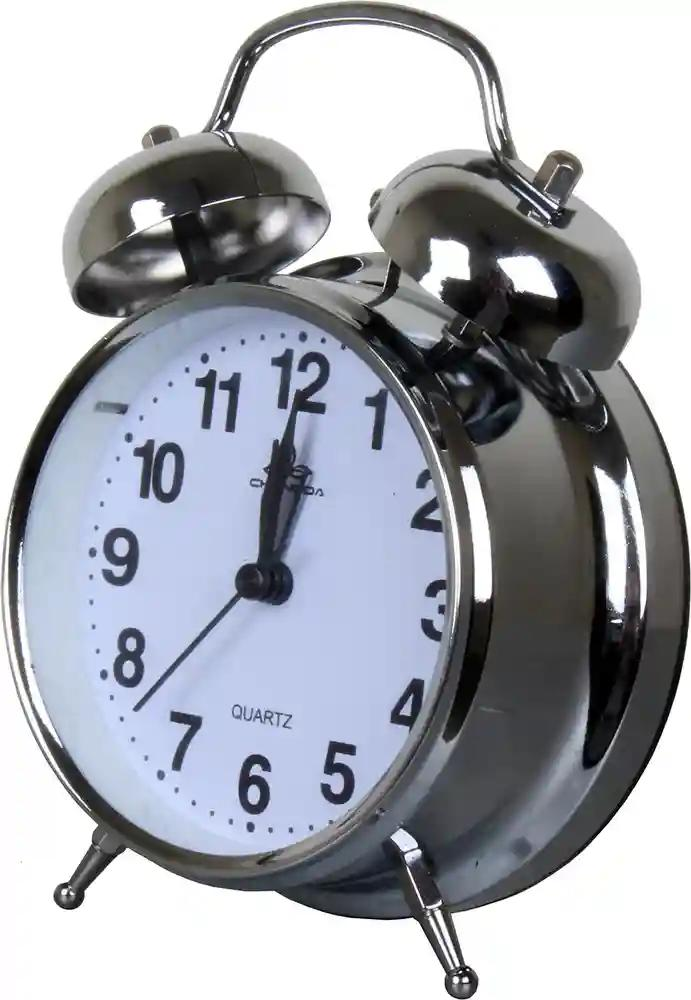clock: (1, 3, 691, 1000)
